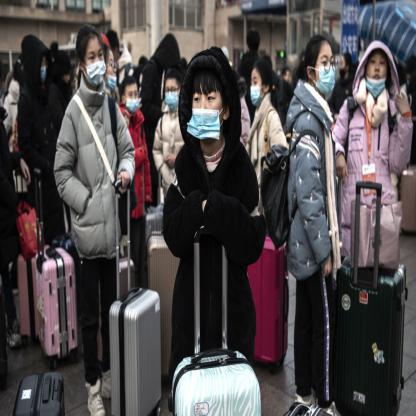Wearing_Mask: (191, 89, 224, 141), (84, 46, 106, 86), (315, 52, 335, 95), (249, 72, 263, 110), (105, 55, 118, 91), (164, 83, 178, 111), (126, 88, 139, 113)
